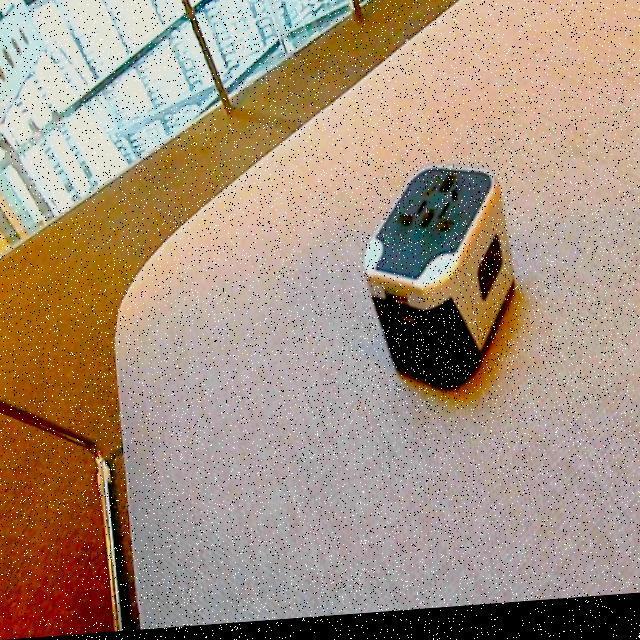adapter: (362, 164, 514, 402)
